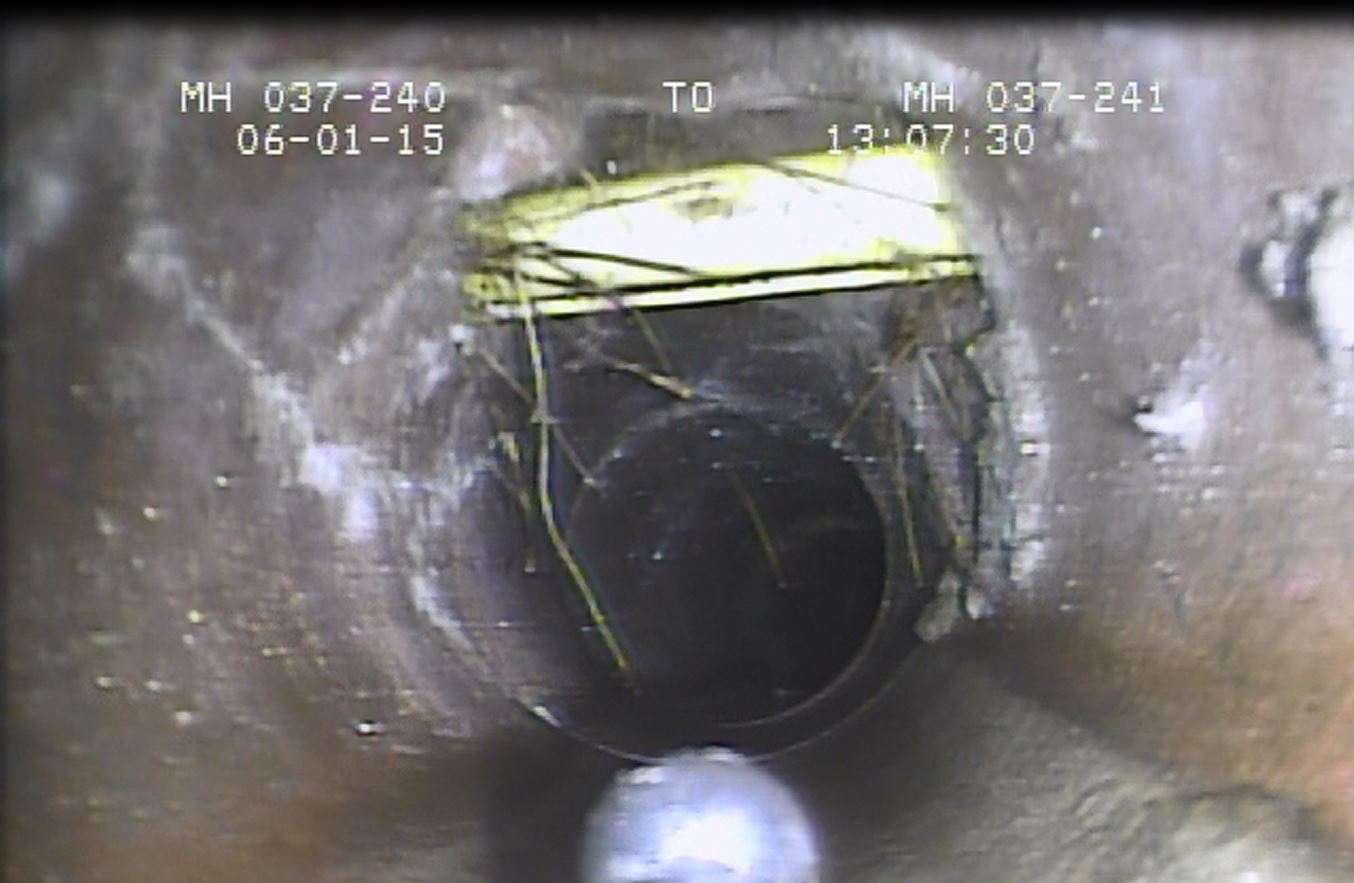cb: (404, 135, 1036, 324)
